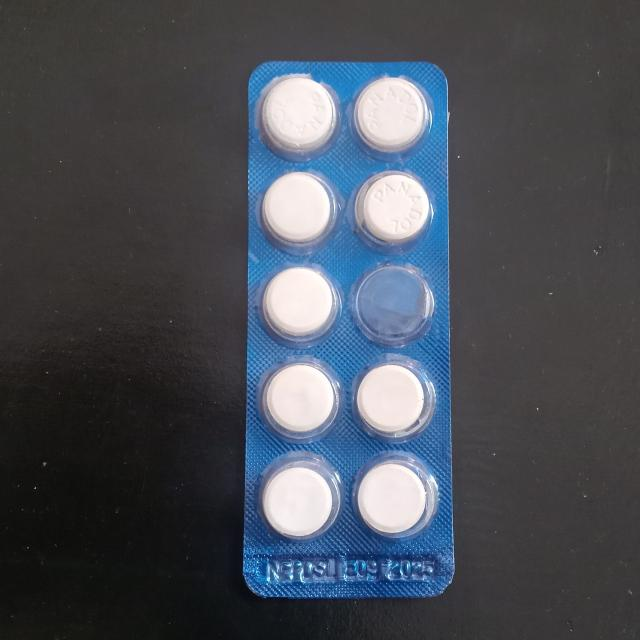defect: (352, 260, 438, 349)
